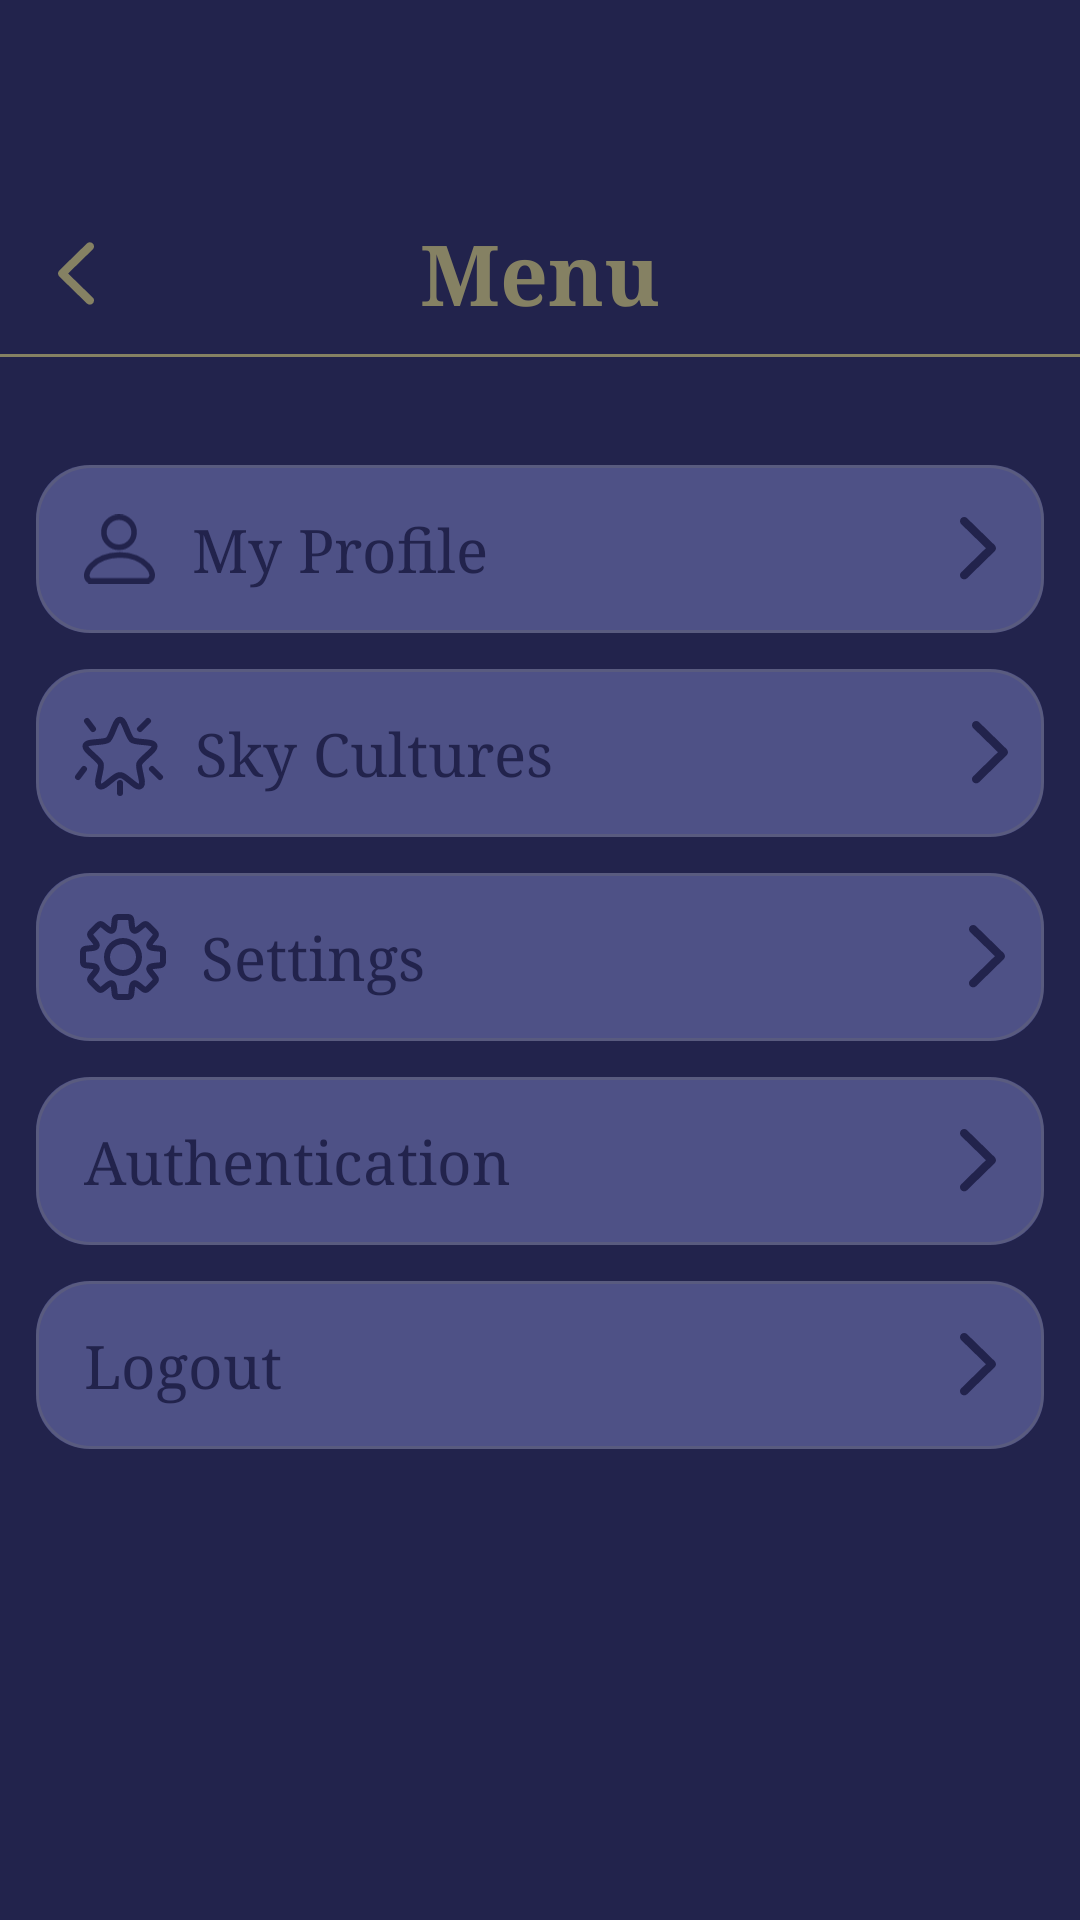

Icon bounding boxes for this 1080x1920 phone screenshot, format (x1, y1, x2, y2):
Back: (58, 242, 94, 305)
Open profile: (960, 517, 996, 579)
